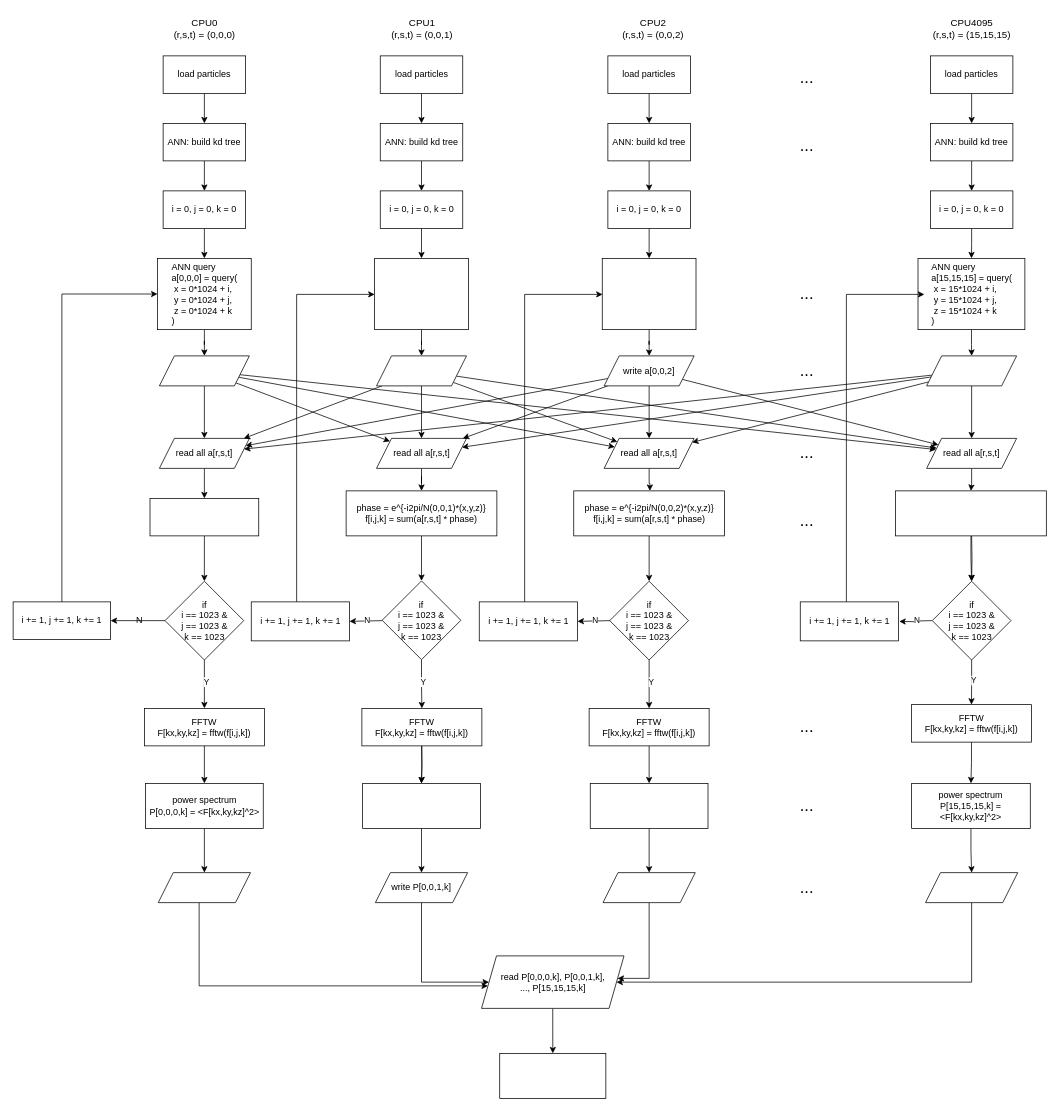
The diagram is 1060 pixels wide and 1112 high, and some of its shapes have lost their labels. The centre of each missing label's shape, as x and y in pixels:
"ANN query a[0,0,1] = query( x = 0*1024 + i, y = 0*1024 + j, z = 1*1024 + k )" belongs at (421,294).
"ANN query a[0,0,2] = query( x = 0*1024 + i, y = 0*1024 + j, z = 2*1024 + k )" belongs at (649,294).
"f[i,j,k] = sum(a[r,s,t])" belongs at (204,517).
"P[k] = sum(P[...,k])" belongs at (552,1075).
"phase = e^{-i2pi/N (15,15,15) *(x,y,z)} f[i,j,k] = sum(a[r,s,t] * phase)" belongs at (970,513).
"power spectrum P[0,0,1,k] = <F[kx,ky,kz]^2>" belongs at (421,805).
"power spectrum P[0,0,2,k] = <F[kx,ky,kz]^2>" belongs at (649,805).
"write a [0,0,0]" belongs at (204,370).
"write a [0,0,1]" belongs at (421,370).
"write a[15,15,15]" belongs at (971,370).
"write P[0,0,0,k]" belongs at (204,887).
"write P[0,0,2,k]" belongs at (648,887).
"write P[15,15,15,k]" belongs at (971,887).
